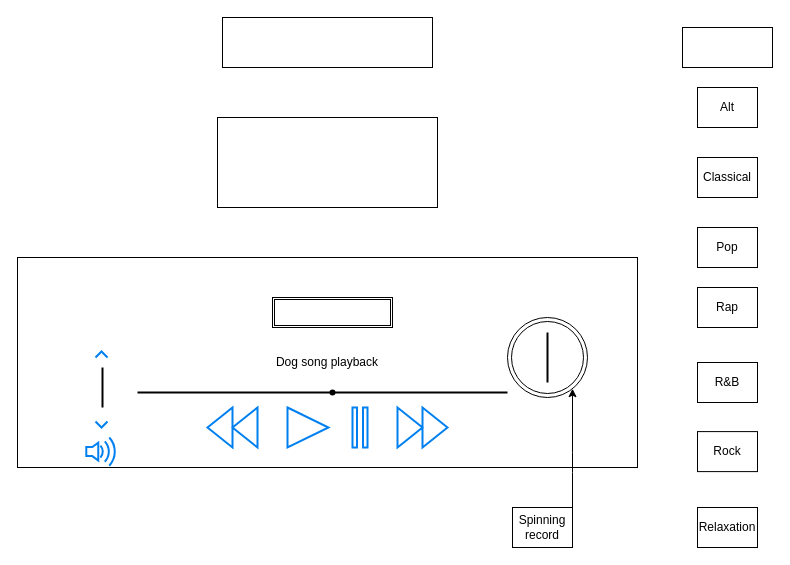
This 790x565 diagram has some shape labels left out. Here are the shapes that lost their labels. From the top down, the box of each, then its label:
(222, 16, 432, 68): Welcome to Doggy DJ!
(682, 26, 772, 68): Genre
(216, 116, 438, 208): Randomized Dog GIF
(272, 296, 392, 328): Song Artist
